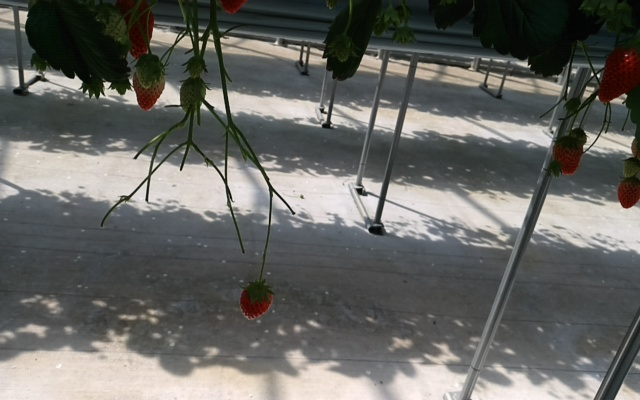GreenStrawberry: (178, 77, 207, 114), (134, 57, 160, 89), (330, 35, 356, 64), (185, 56, 205, 78), (620, 157, 640, 179)
MatureStrawberry: (595, 42, 640, 104), (119, 1, 157, 59), (132, 64, 165, 113), (238, 281, 276, 323), (550, 135, 586, 178), (616, 175, 640, 211)
